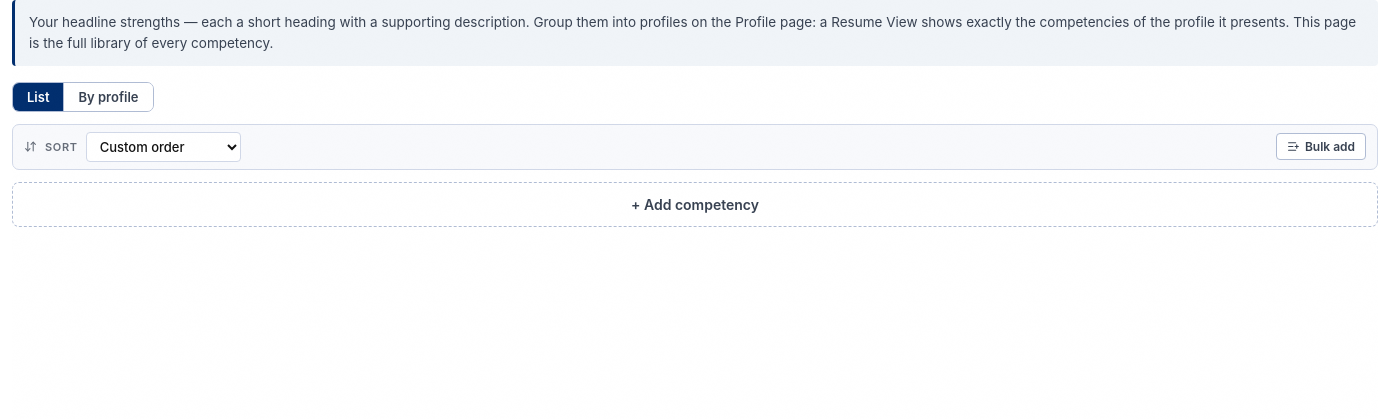
KeyCompetenciesEditor — by-profile grouping › shows a competency once per profile it belongs to, plus an Unassigned group
Click the button "By profile".
click(108, 97)  # box [64, 83, 152, 111]
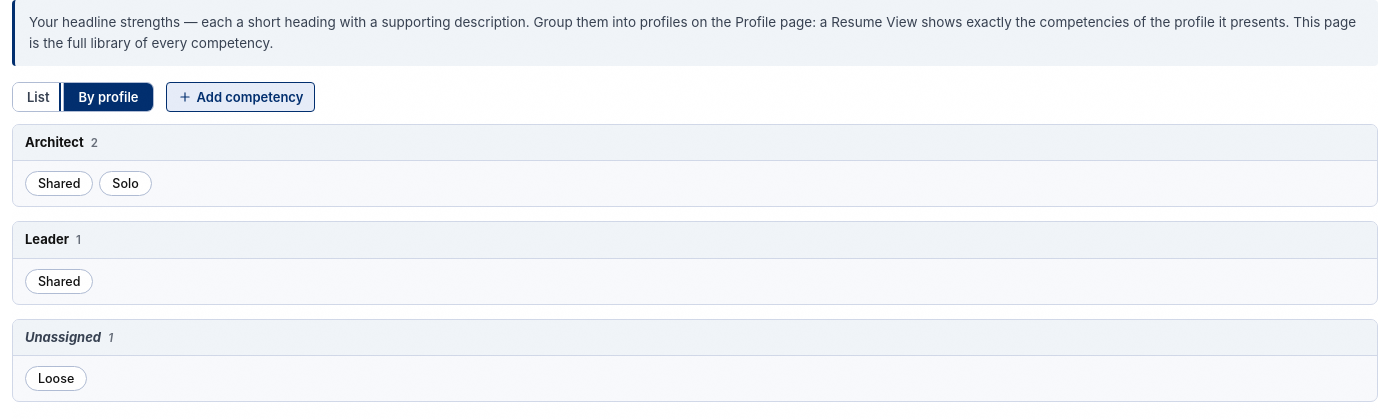
Expected: the text "Architect" is shown, [25, 134, 84, 150]
Expected: the text "Leader" is shown, [25, 231, 69, 247]
Expected: the text "Unassigned" is shown, [25, 329, 101, 345]
